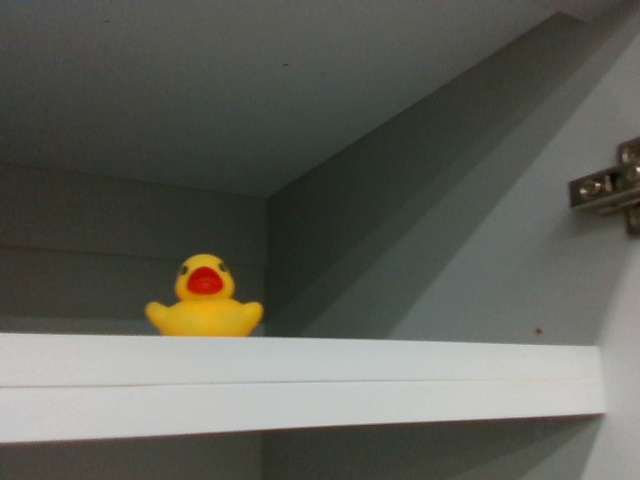duck: (145, 253, 267, 336)
